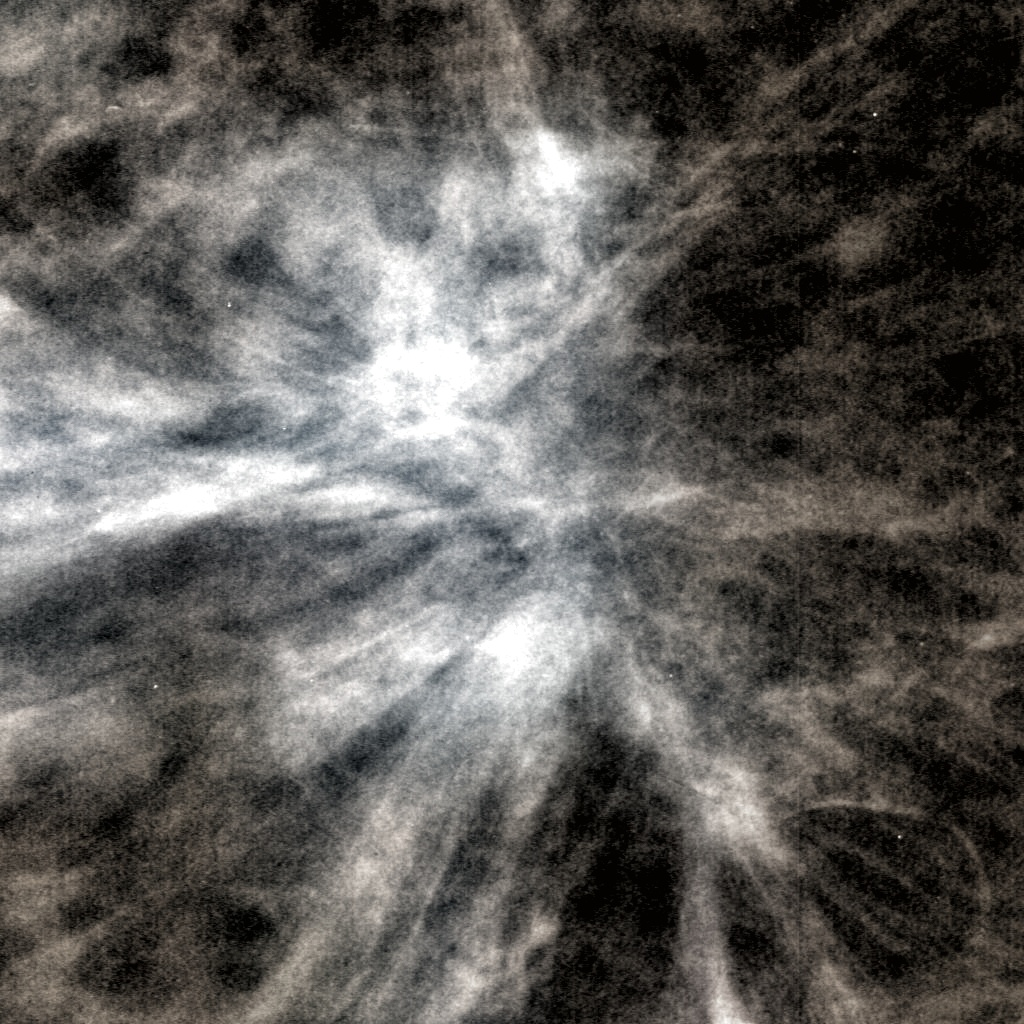tumor: (227, 194, 797, 830)
